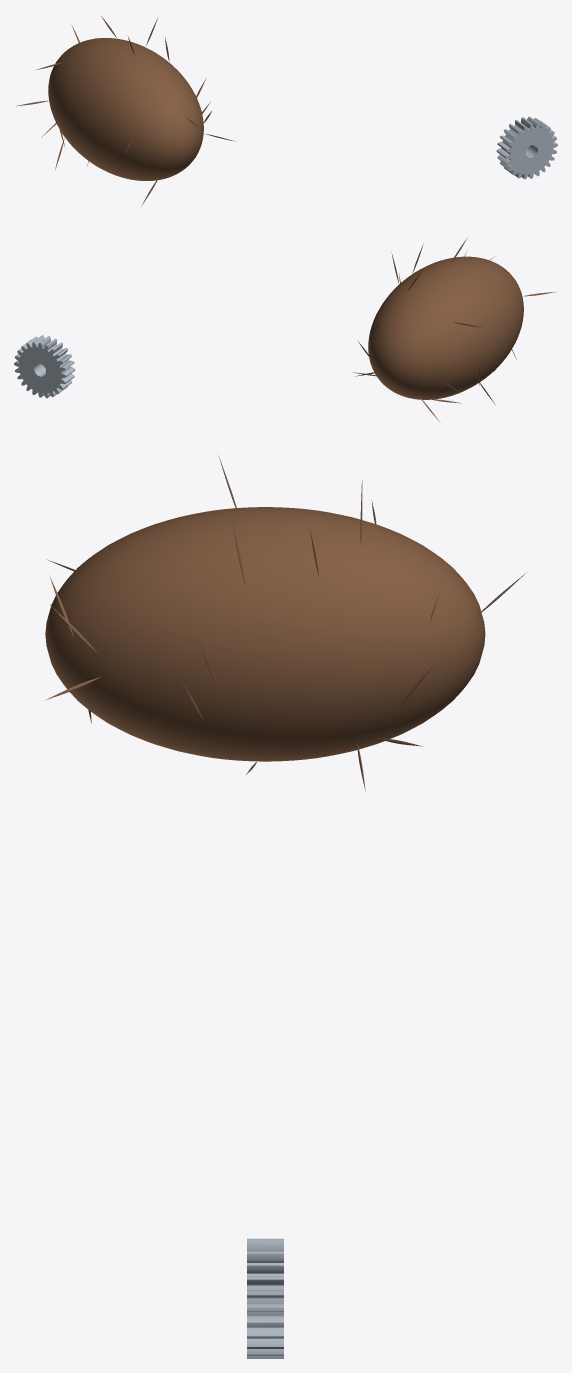
The model's file is mixed-before.glb.
3 views of the same model, one above another, from view 1: azimuth 30°, elevation 25°; view 2: azimuth 150°, elevation 25°; view 3: azimuth 270°, elevation 25° (orthographic). The views are drawn at different scales.
Visible parts, largest first — view 1: animal::animal_body, gear::spur_gear; view 2: animal::animal_body, gear::spur_gear; view 3: animal::animal_body, gear::spur_gear.
Boxes of the visible parts, left/top/right/bottom form: animal::animal_body: left=48, top=38, right=203, bottom=180; gear::spur_gear: left=496, top=116, right=557, bottom=179; animal::animal_body: left=368, top=256, right=523, bottom=399; gear::spur_gear: left=14, top=335, right=75, bottom=398; animal::animal_body: left=45, top=507, right=485, bottom=761; gear::spur_gear: left=247, top=1238, right=283, bottom=1358.
Size of the model in its own units: 0.2458 by 0.119 by 0.1047.
